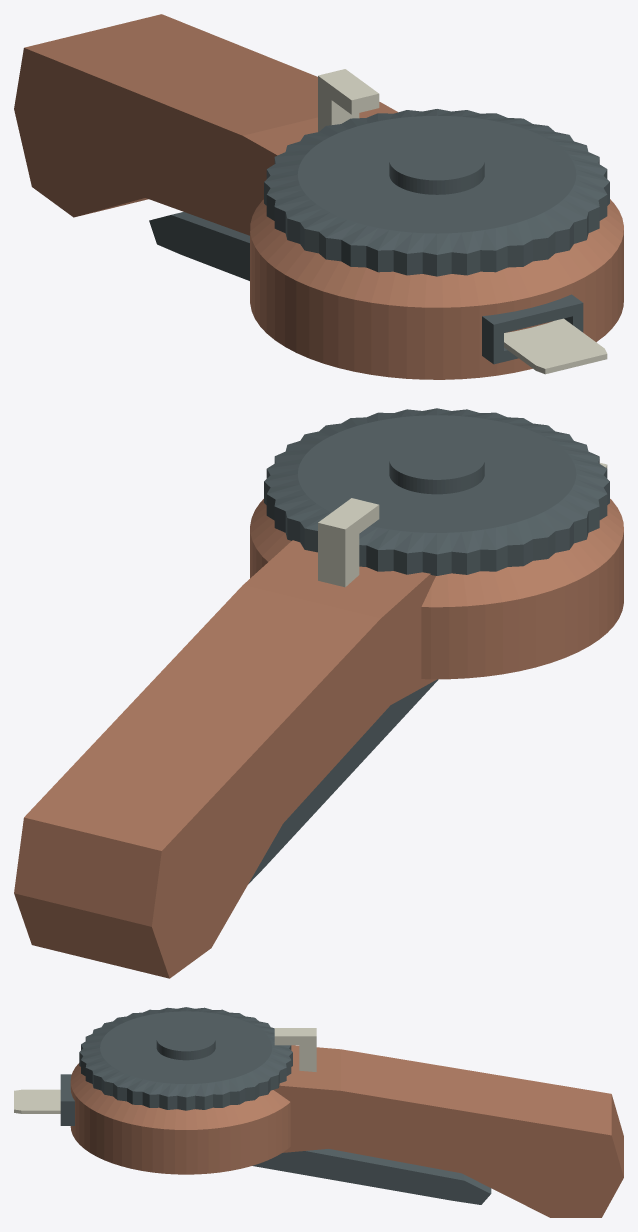
3 renders of one model, top to bottom at view 1: azimuth 30°, elevation 25°; view 2: azimuth 150°, elevation 25°; view 3: azimuth 270°, elevation 25°, orthographic. The views are drawn at different scales.
Parts seen in each view (by area): view 1: WholeLongPalmBodyAndFrontNeck, WholeKnurledBlankSelectorDiskAndCenterBoss, WholeRoundSelectorHeadHousing, WholeFixedSqueezeLever, WholeShortBlankTapeTongue, WholeFrontShallowOutputMouthFrame, WholeStationaryReturnedSelectorIndex; view 2: WholeLongPalmBodyAndFrontNeck, WholeKnurledBlankSelectorDiskAndCenterBoss, WholeRoundSelectorHeadHousing, WholeFixedSqueezeLever, WholeStationaryReturnedSelectorIndex; view 3: WholeLongPalmBodyAndFrontNeck, WholeKnurledBlankSelectorDiskAndCenterBoss, WholeRoundSelectorHeadHousing, WholeFixedSqueezeLever, WholeStationaryReturnedSelectorIndex, WholeShortBlankTapeTongue, WholeFrontShallowOutputMouthFrame.
Part boxes in pixels (left/top/right/bottom): WholeLongPalmBodyAndFrontNeck: left=14, top=14, right=397, bottom=235; WholeKnurledBlankSelectorDiskAndCenterBoss: left=264, top=109, right=609, bottom=276; WholeRoundSelectorHeadHousing: left=250, top=199, right=623, bottom=379; WholeFixedSqueezeLever: left=149, top=212, right=249, bottom=280; WholeShortBlankTapeTongue: left=504, top=318, right=607, bottom=374; WholeFrontShallowOutputMouthFrame: left=482, top=294, right=583, bottom=364; WholeStationaryReturnedSelectorIndex: left=318, top=69, right=379, bottom=131; WholeLongPalmBodyAndFrontNeck: left=14, top=540, right=436, bottom=978; WholeKnurledBlankSelectorDiskAndCenterBoss: left=264, top=408, right=609, bottom=575; WholeRoundSelectorHeadHousing: left=250, top=499, right=623, bottom=679; WholeFixedSqueezeLever: left=248, top=679, right=438, bottom=884; WholeStationaryReturnedSelectorIndex: left=318, top=498, right=379, bottom=587; WholeLongPalmBodyAndFrontNeck: left=274, top=1045, right=623, bottom=1217; WholeKnurledBlankSelectorDiskAndCenterBoss: left=79, top=1007, right=292, bottom=1110; WholeRoundSelectorHeadHousing: left=70, top=1063, right=290, bottom=1174; WholeFixedSqueezeLever: left=252, top=1149, right=491, bottom=1204; WholeStationaryReturnedSelectorIndex: left=274, top=1028, right=316, bottom=1071; WholeShortBlankTapeTongue: left=14, top=1089, right=60, bottom=1113; WholeFrontShallowOutputMouthFrame: left=60, top=1074, right=74, bottom=1125.
Bounding box in the file's own units: 0.094 × 0.074 × 0.248.
